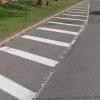Crosswalk: (5, 3, 85, 100)
